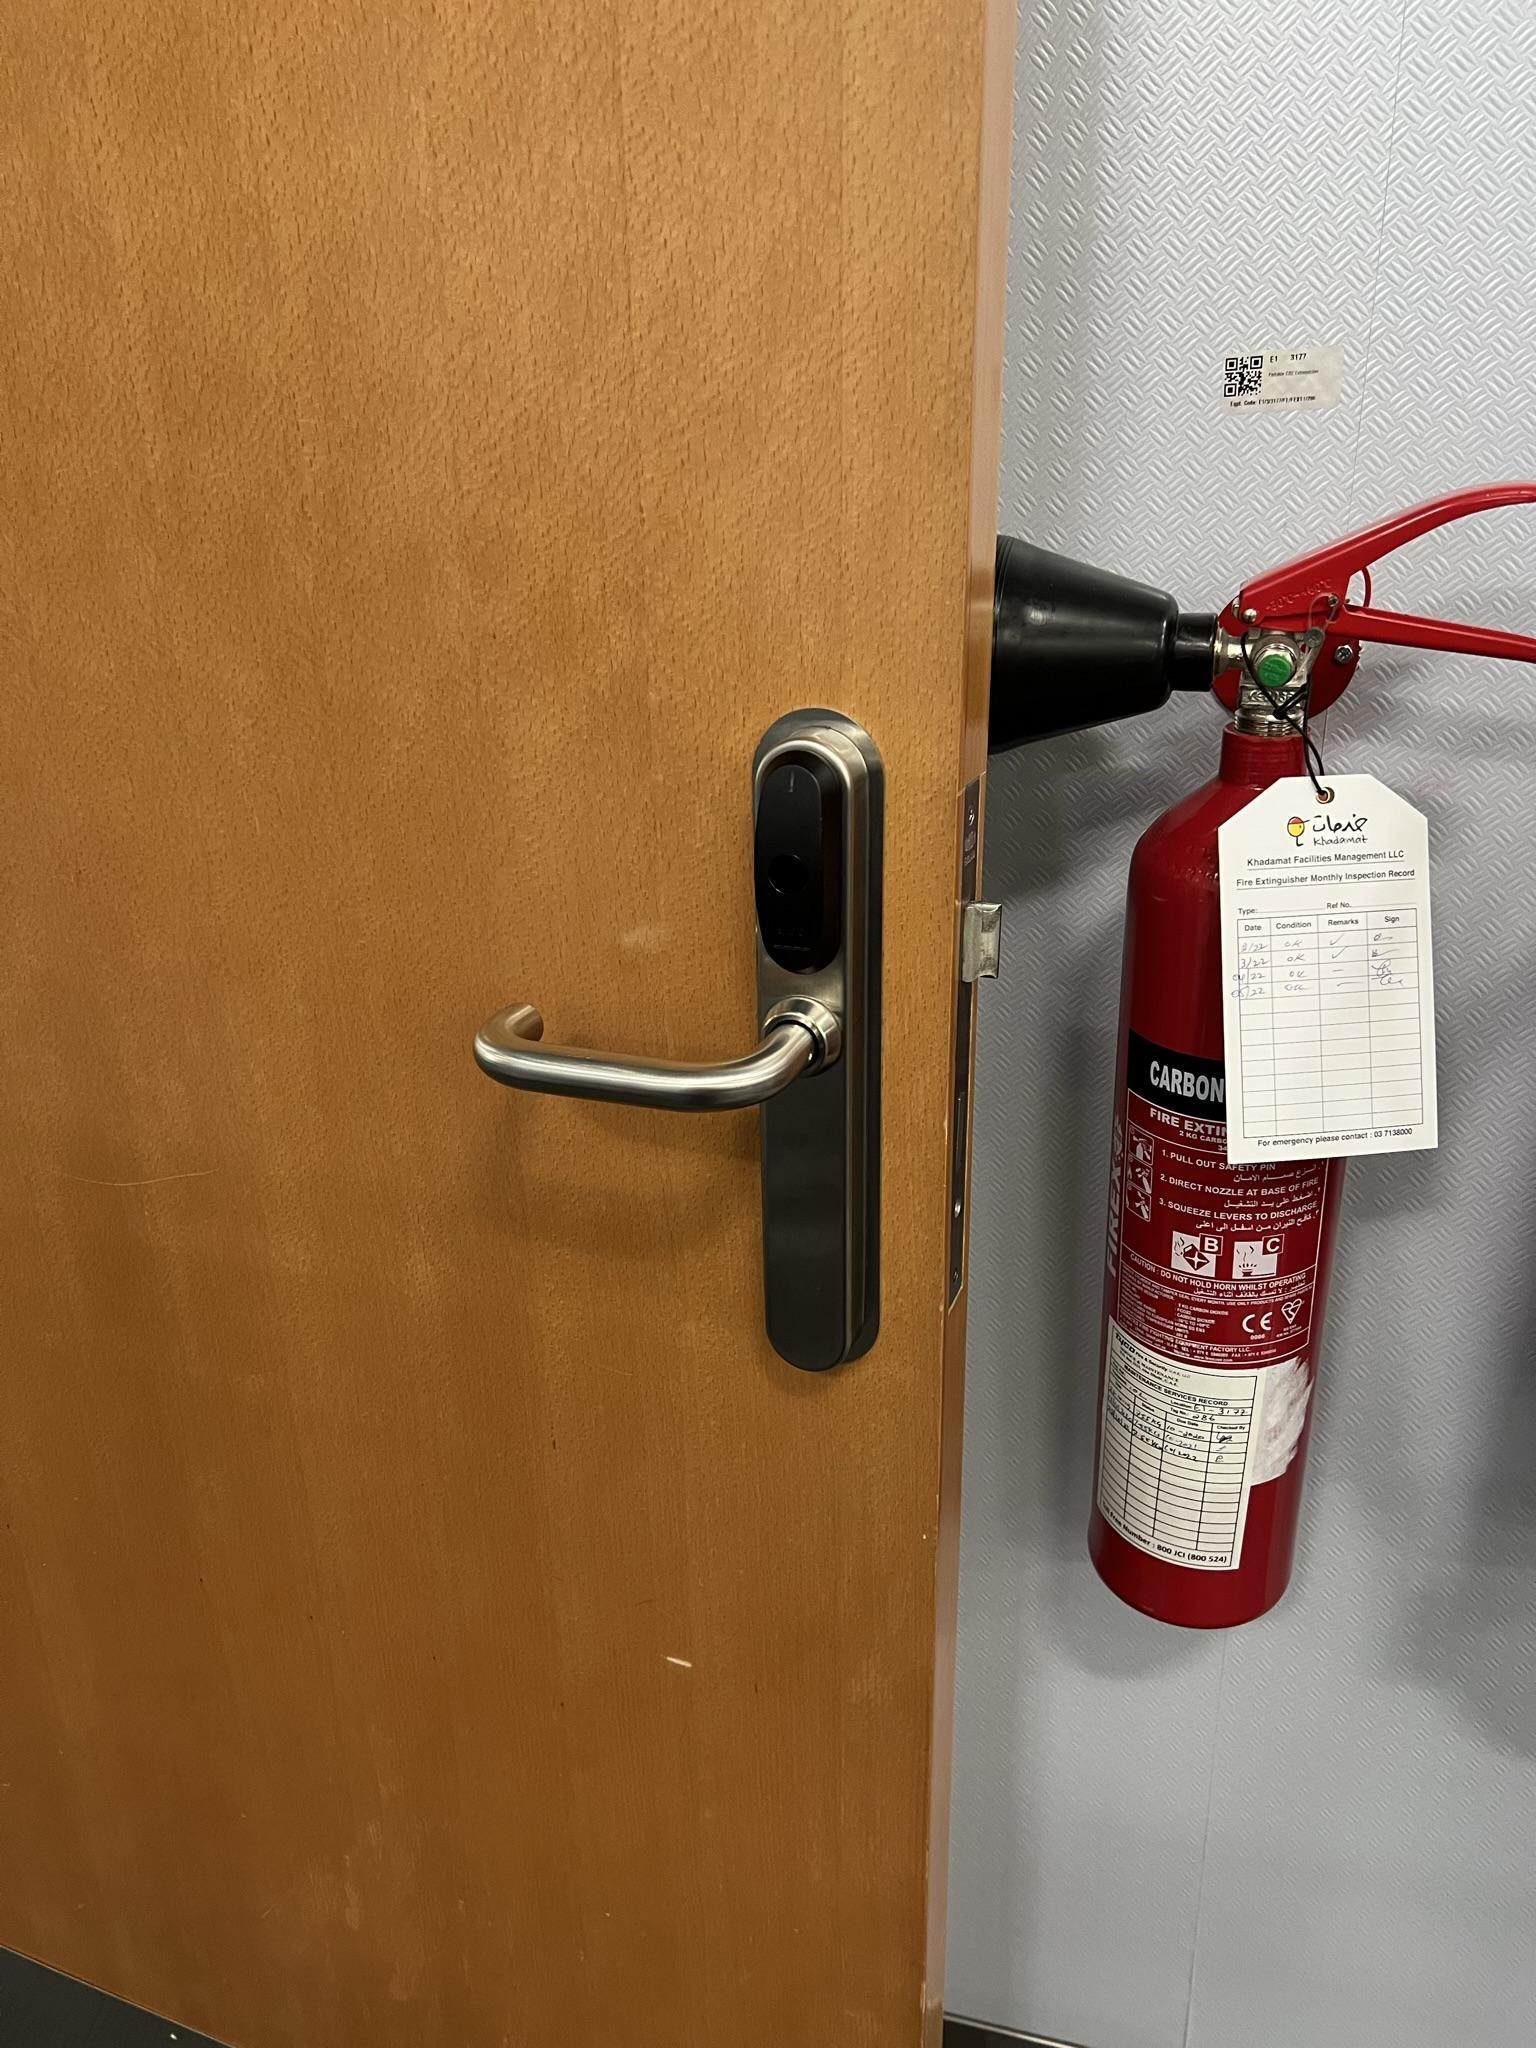door: (18, 0, 981, 2048)
handle: (471, 701, 905, 1379)
